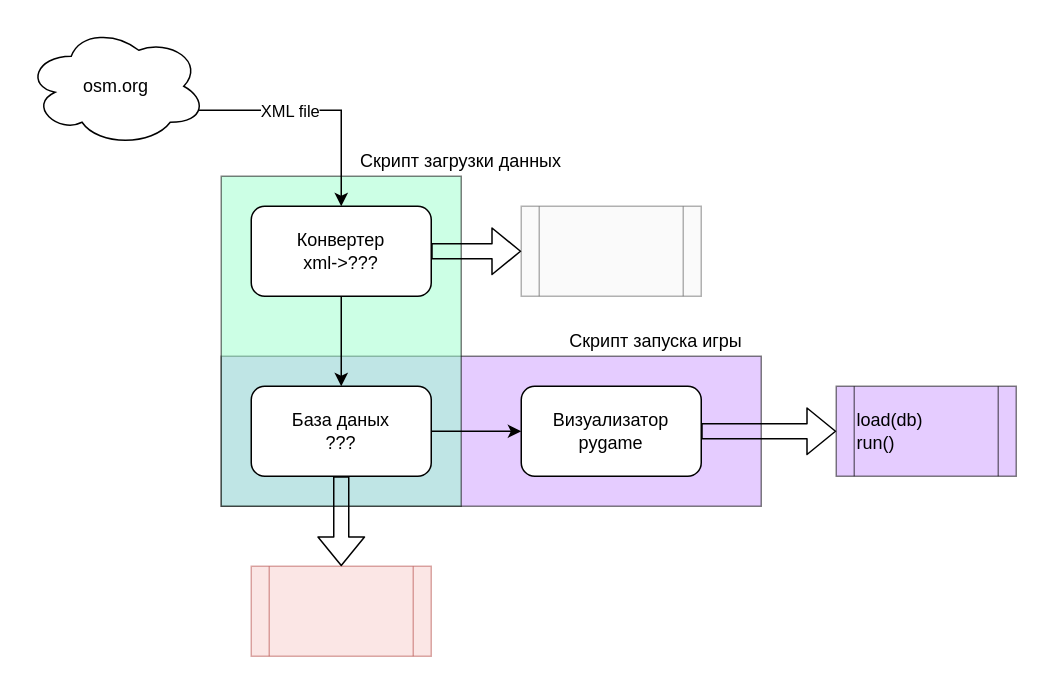
Image size: 1043x683. Some labels were removed from this diagram. Each missing label, with the box of its shape:
load(filename) parse() save(db): (520, 205, 701, 296)
save() load() clear(): (250, 565, 431, 656)
